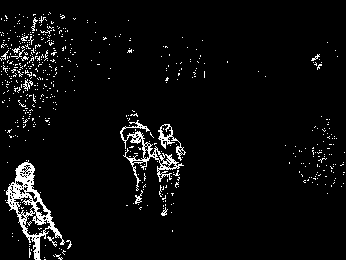person: (5, 160, 72, 259), (149, 123, 186, 216), (120, 109, 155, 207)
